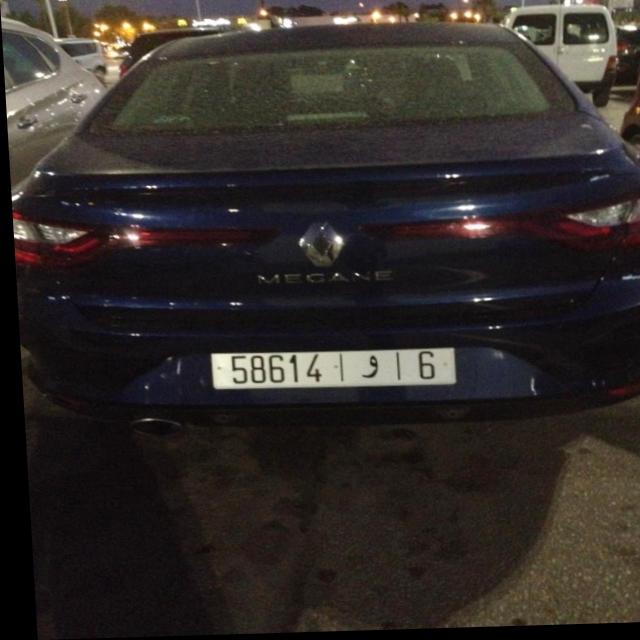License-Plate: (207, 350, 452, 392)
